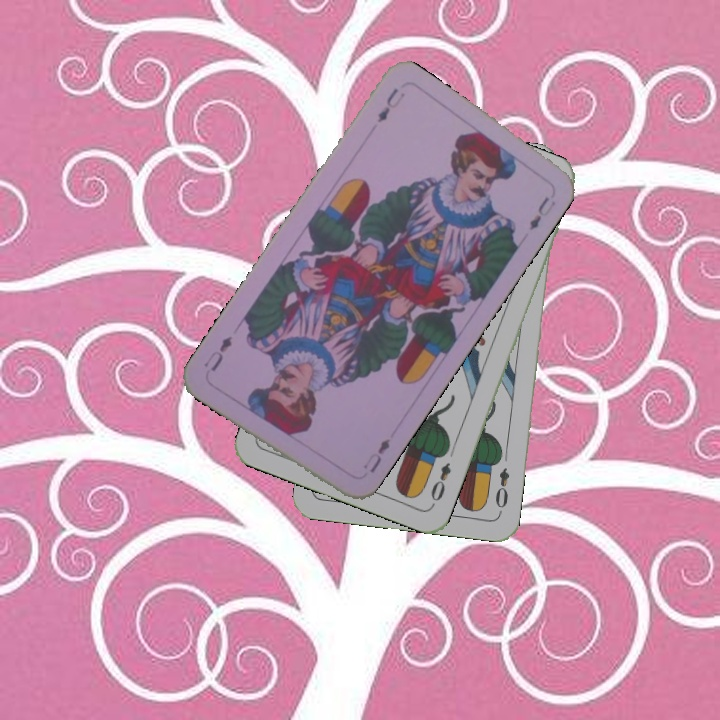EO: (426, 458, 454, 509), (491, 464, 513, 516)
EU: (373, 84, 408, 126), (359, 434, 393, 476)
